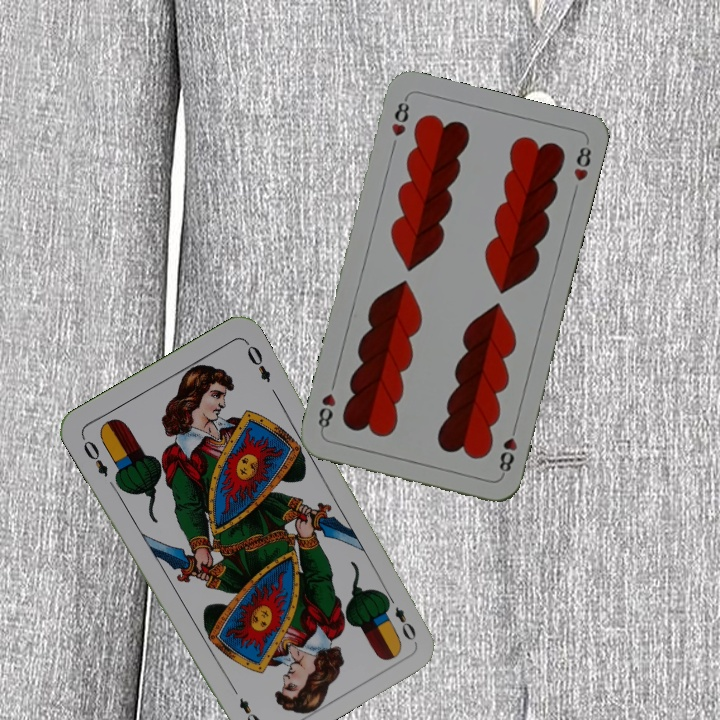EO: (381, 590, 419, 644), (77, 432, 111, 480)
H8: (495, 420, 520, 479), (387, 94, 412, 139)
